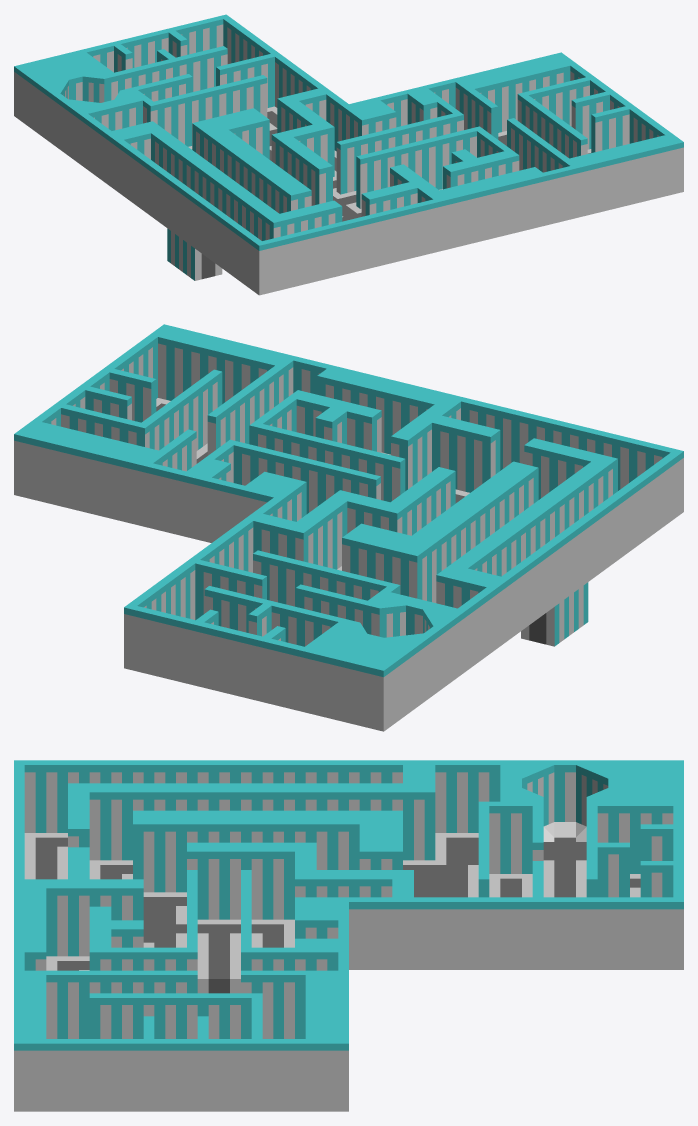
Rendered from moonlevel4.fbx.
3 views of the same model, one above another, from view 1: azimuth 30°, elevation 25°; view 2: azimuth 150°, elevation 25°; view 3: azimuth 270°, elevation 25° (orthographic). The views are drawn at different scales.
Parts seen in each view (by area): view 1: Plane; view 2: Plane; view 3: Plane.
Boxes of the visible parts, x1,y1,x2,y2 form: Plane: [14, 14, 683, 295]; Plane: [14, 324, 683, 731]; Plane: [14, 760, 683, 1111].
Bounding box in the file's own units: 3200 × 667 × 3200.
